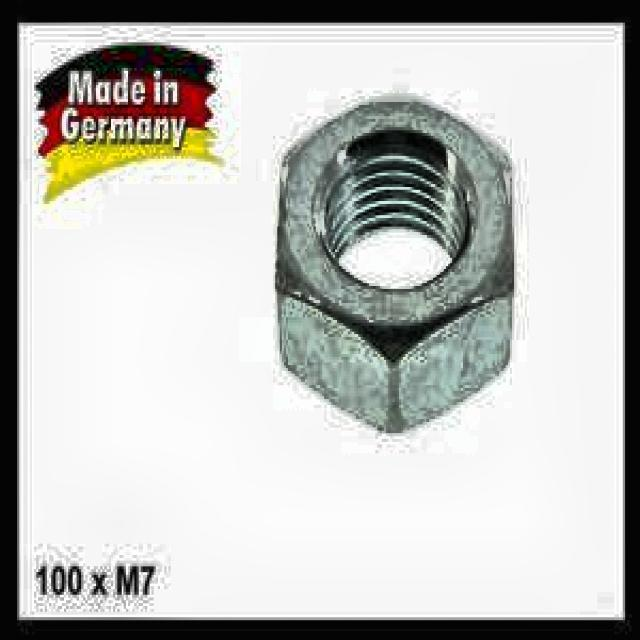Nut Detection - v1 Nut Dataset: (252, 77, 535, 453)
